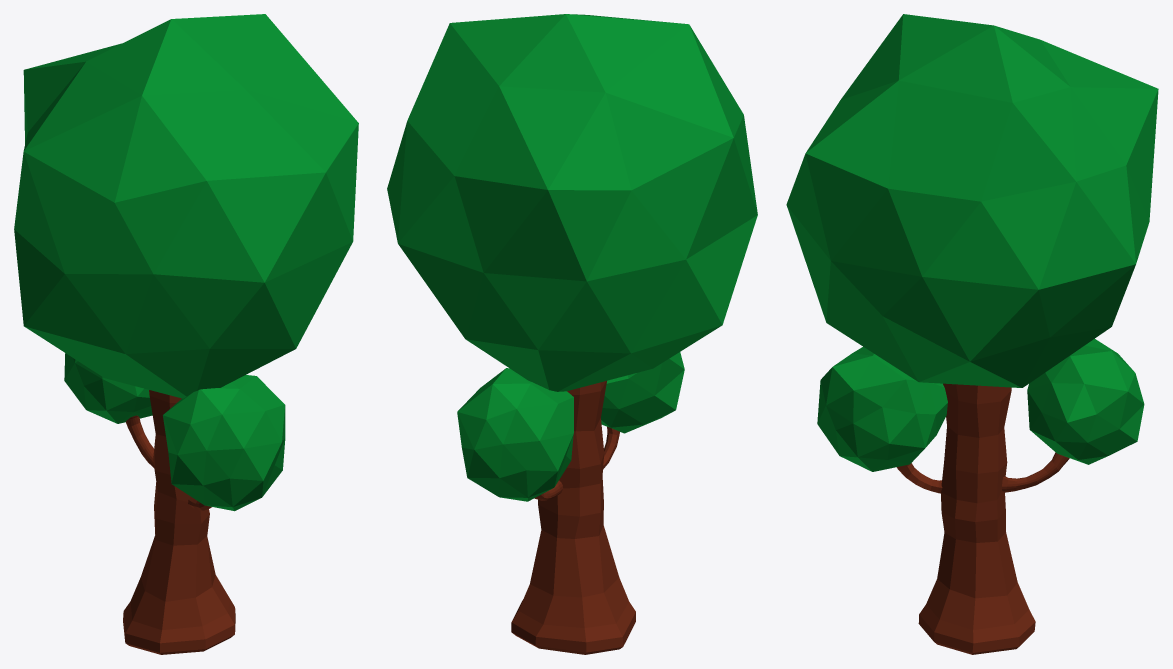
File: tree1.glb
3 renders of one model, left to right at view 1: azimuth 30°, elevation 25°; view 2: azimuth 150°, elevation 25°; view 3: azimuth 270°, elevation 25°, orthographic. The views are drawn at different scales.
Visible parts, largest first — view 1: round_tree; view 2: round_tree; view 3: round_tree.
Boxes of the visible parts, bbox=[...] form: round_tree: bbox=[14, 14, 358, 654]; round_tree: bbox=[387, 14, 757, 654]; round_tree: bbox=[786, 14, 1158, 654].
Bounding box in the file's own units: 1.92 × 3.64 × 2.02.
